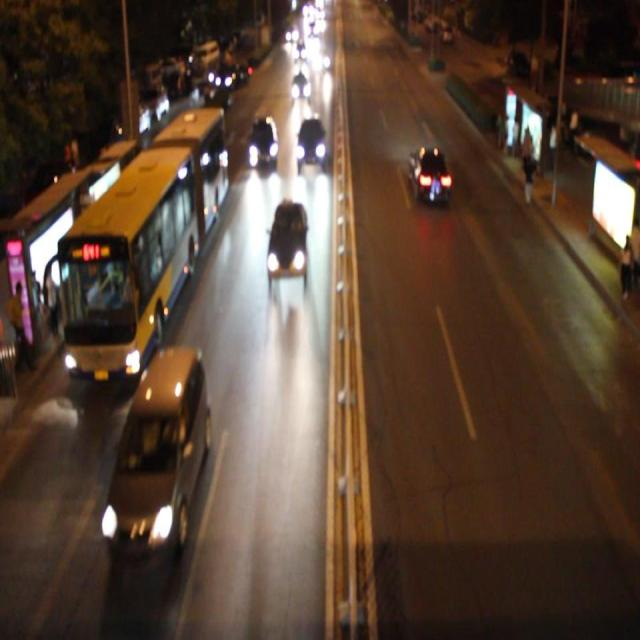car: (265, 200, 308, 282), (408, 144, 451, 201), (295, 114, 327, 170), (248, 115, 279, 168), (290, 66, 312, 103)
truck: (104, 347, 209, 570)
van: (54, 102, 219, 376)
